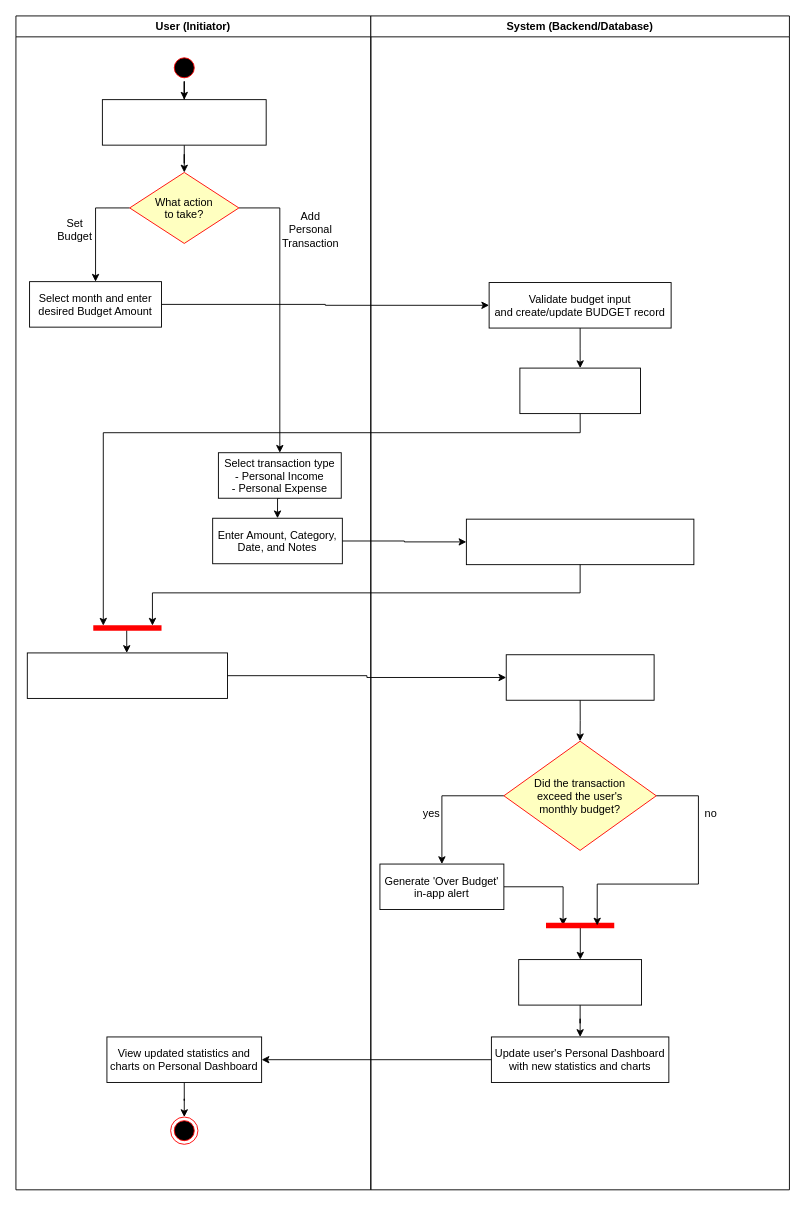
Image size: 805x1206. Some labels were removed from this diagram. Here are the shapes that lost their labels. From the top down, the centre of each, then its label:
(x=183, y=122): Navigate to Personal Finances or Dashboard
(x=579, y=390): BUDGET record saved to database
(x=579, y=541): Create PERSONAL_TRANSACTION record
(x=127, y=675): Either budget or transaction processed
(x=579, y=677): Update user's analytics and recalculate
(x=580, y=982): Budget check complete
